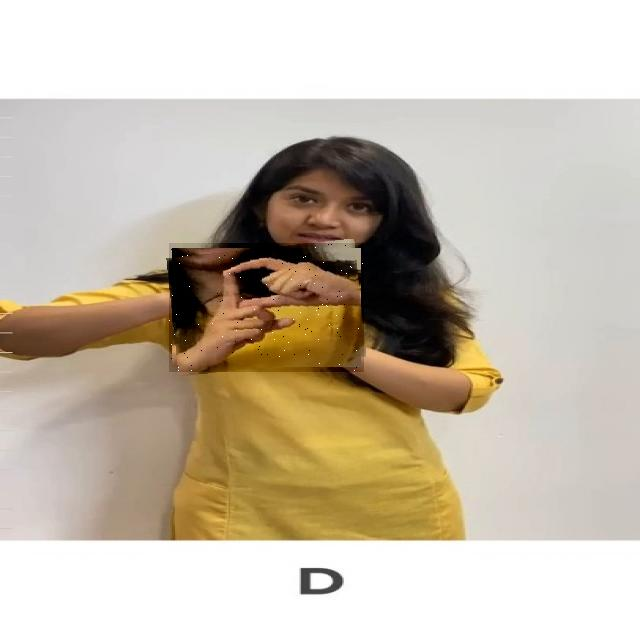D: (169, 243, 364, 372)
